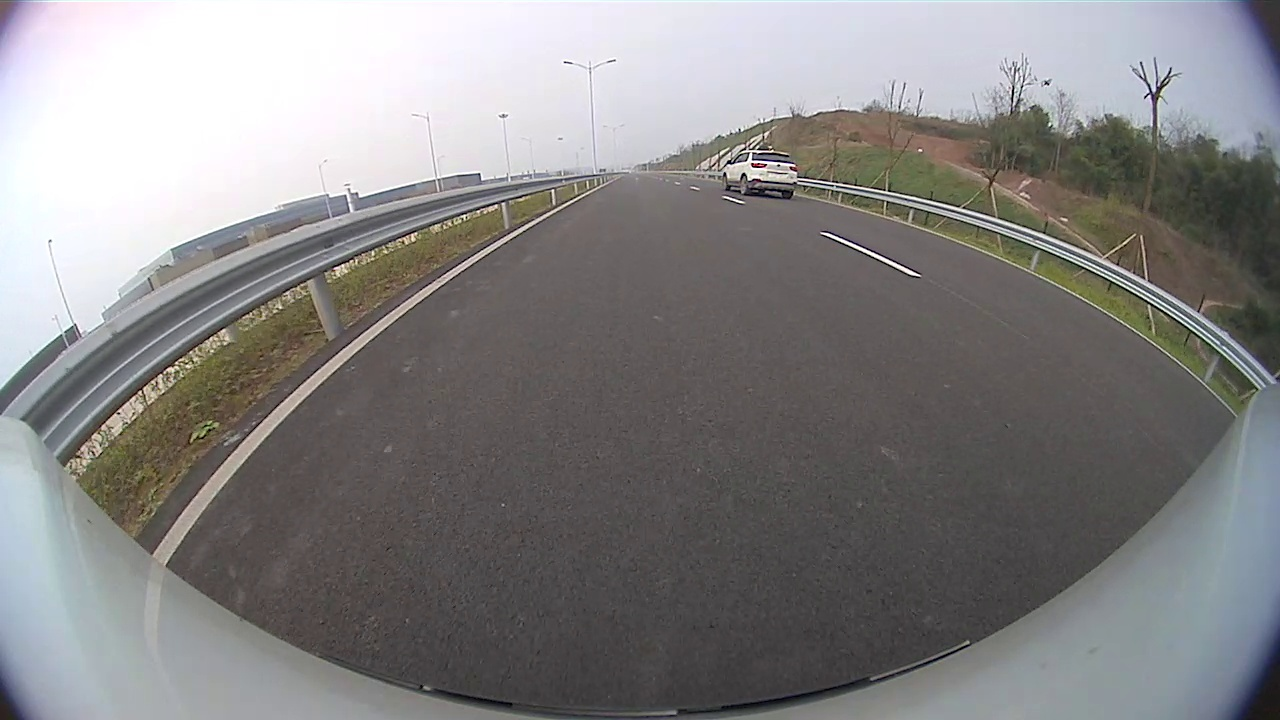car: (719, 147, 799, 199)
front: (720, 176, 730, 191)
rear: (739, 176, 749, 195)
